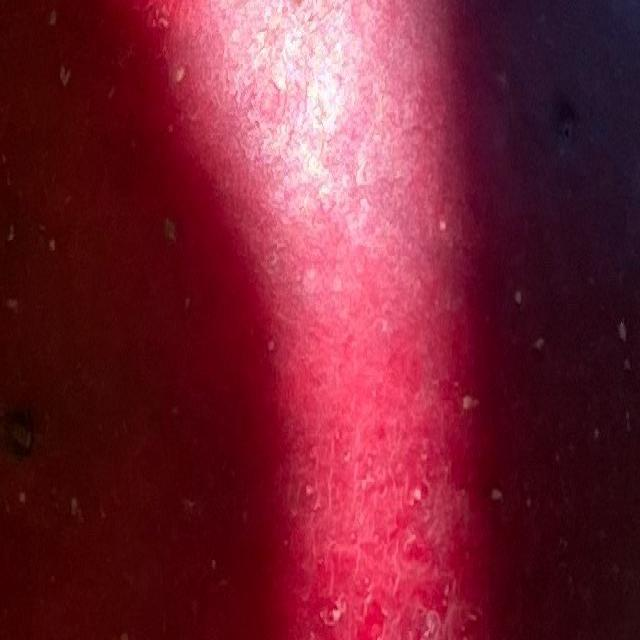Apples: (0, 4, 639, 638)
